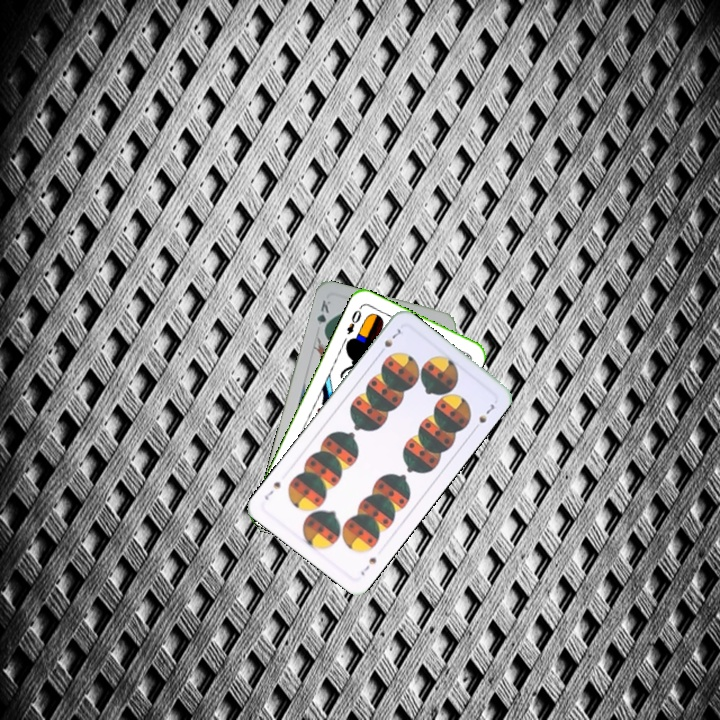EO: (343, 306, 364, 337)
GK: (313, 296, 333, 336)
S7: (375, 323, 405, 357), (356, 553, 379, 578)
